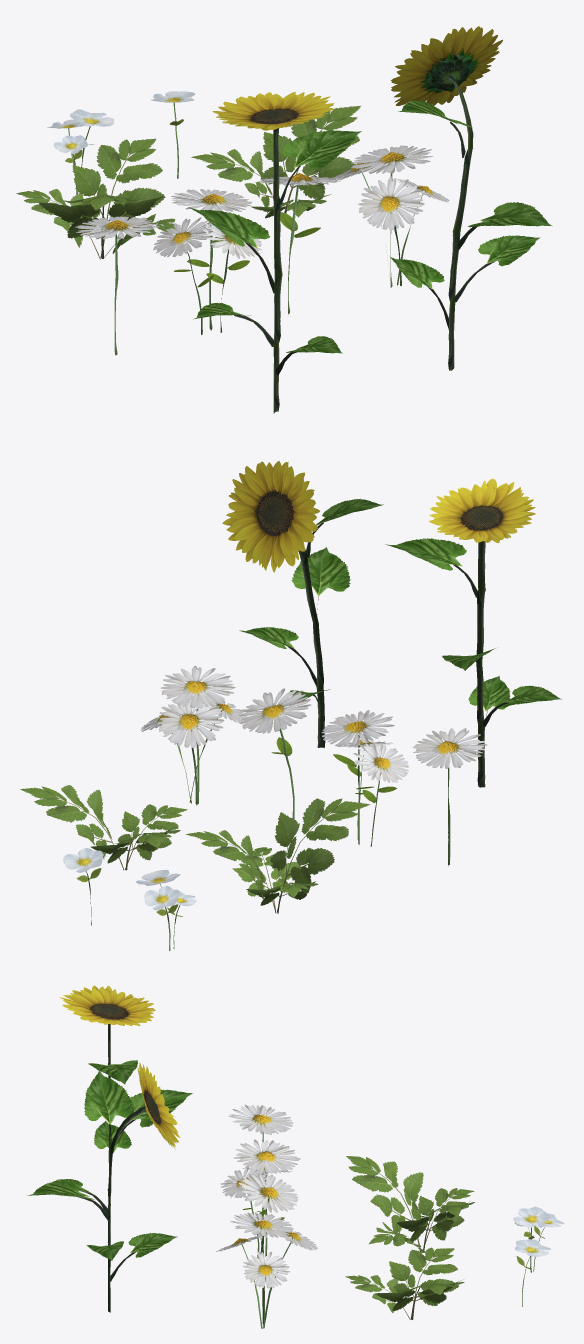
The model's file is bush_daisies_sunflower.glb.
3 renders of one model, top to bottom at view 1: azimuth 30°, elevation 25°; view 2: azimuth 150°, elevation 25°; view 3: azimuth 270°, elevation 25°, orthographic. The views are drawn at different scales.
Parts seen in each view (by area): view 1: flowers_2_01; view 2: flowers_2_01; view 3: flowers_2_01.
Part boxes in pixels (x1,y1,x2,y2): flowers_2_01: [16, 26, 552, 413]; flowers_2_01: [20, 461, 561, 950]; flowers_2_01: [27, 985, 564, 1328].
Size of the model in its own units: 675 by 539 by 1002.
Materials: 1 (1 with a texture image).
